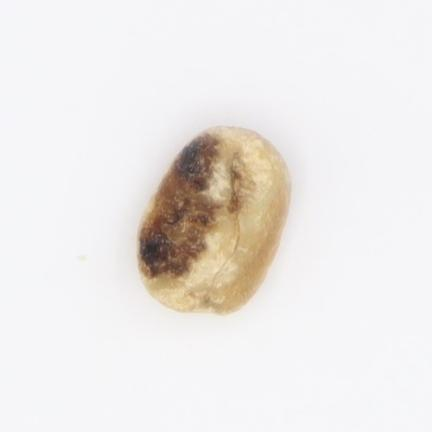partial-black: (138, 126, 289, 312)
